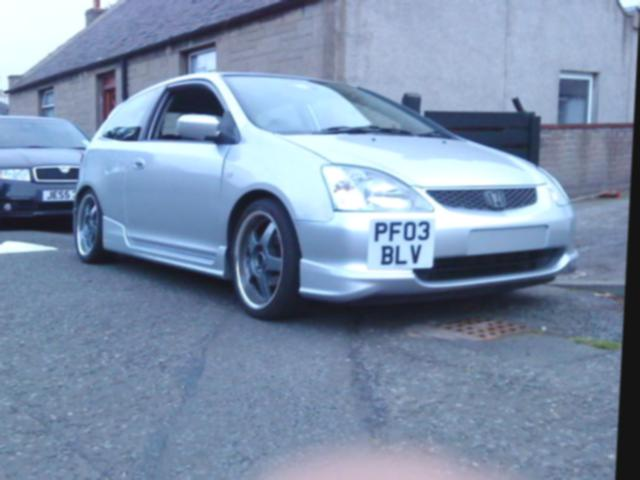License_Plate: (359, 213, 443, 274)
